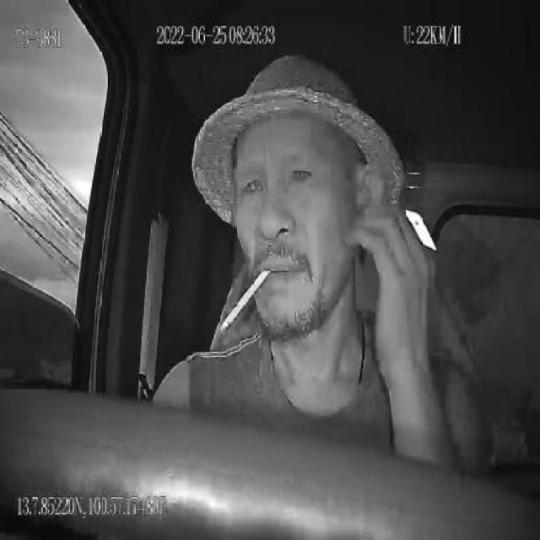smoking: (218, 268, 271, 334)
